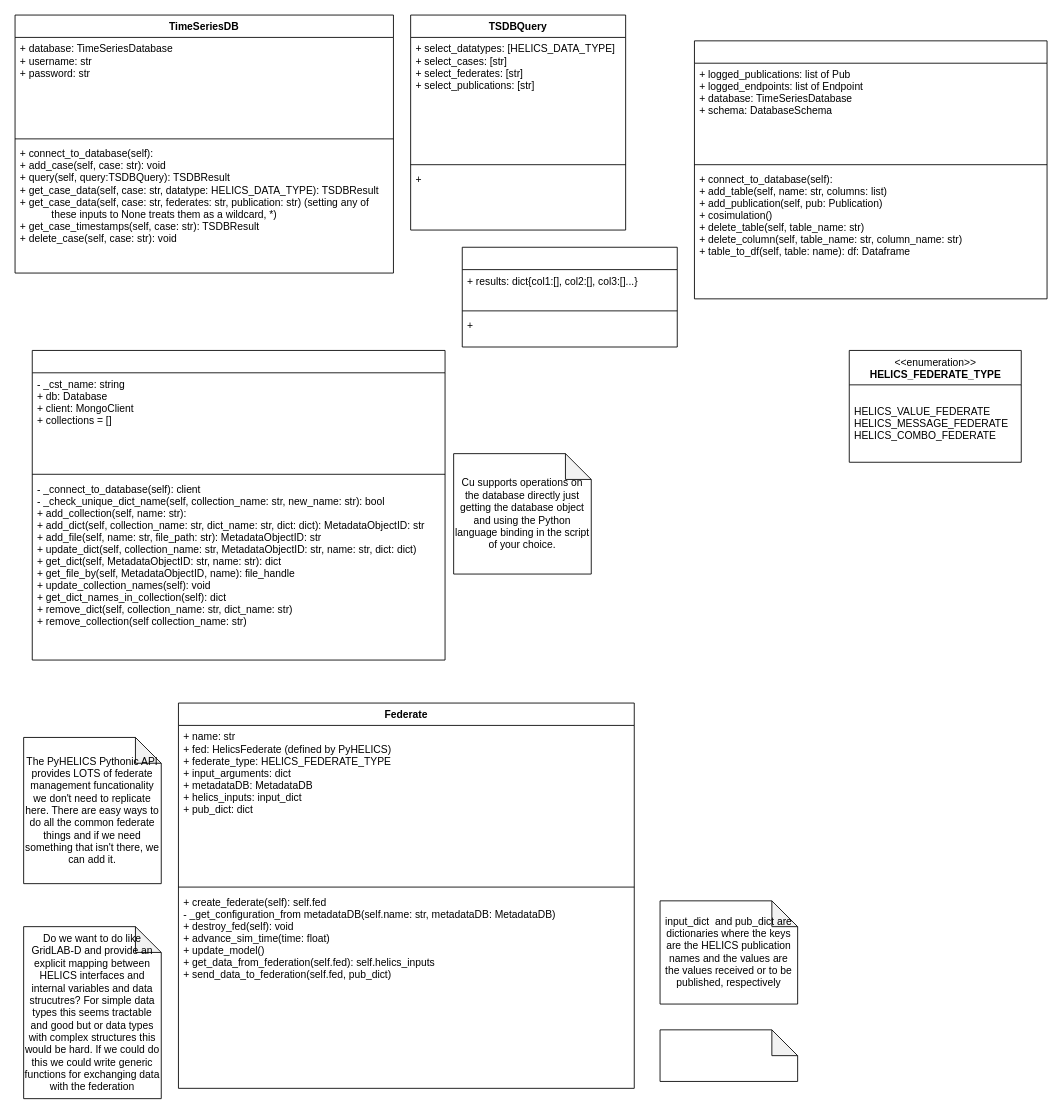
Image size: 1062x1114. Some labels were removed from this diagram. The shapes that lost their labels are listed below. From the top down, each one's box as (x1, y1, x2, y2) in pixels, then its label:
(694, 40, 1047, 299): LoggerFed
(461, 246, 677, 347): TSDBResult
(31, 350, 445, 660): MetadataDB
(659, 1029, 798, 1081): update_model is user-written code
